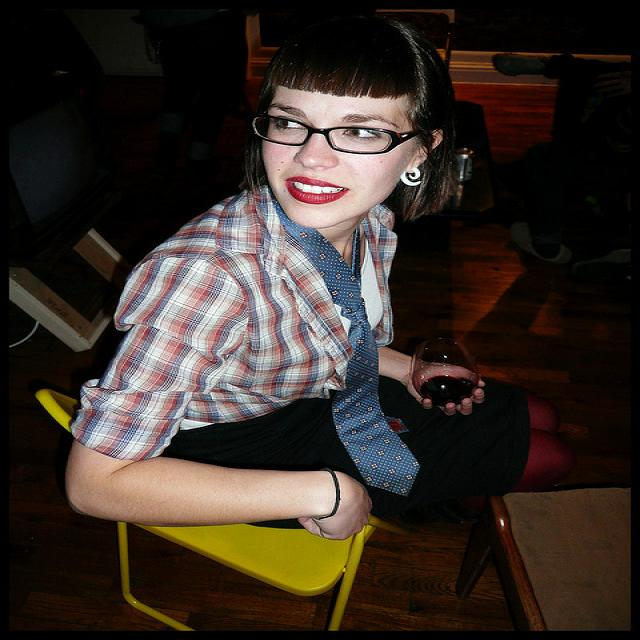Cup: (410, 330, 470, 431)
People: (134, 28, 462, 557)
